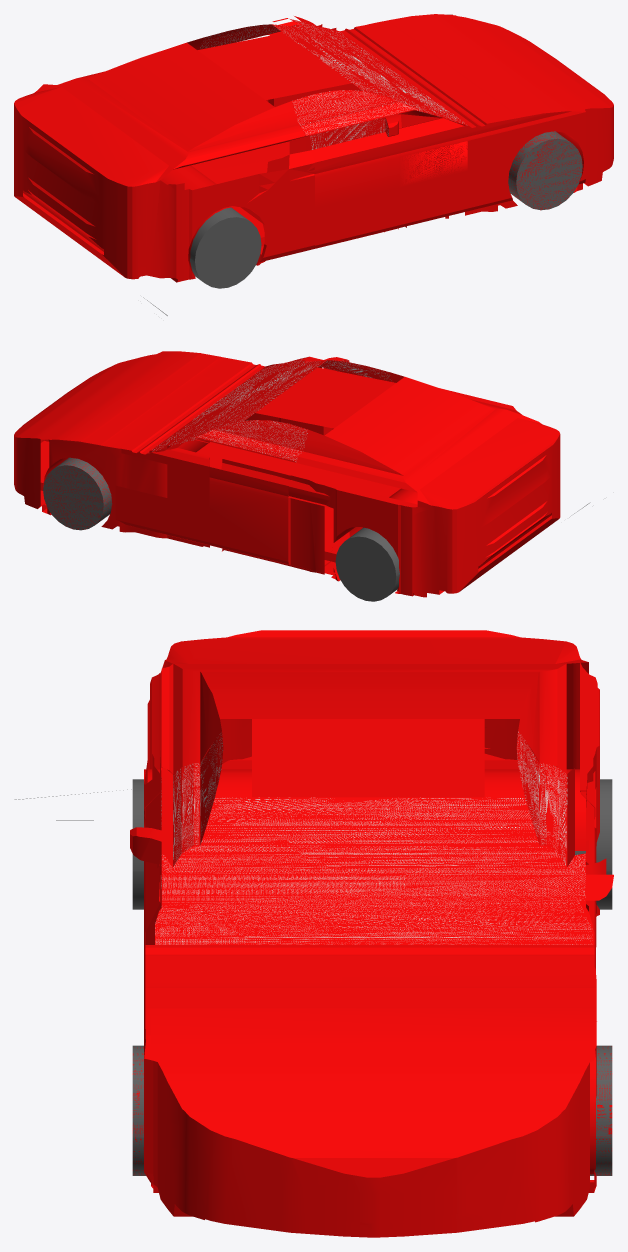
3 renders of one model, top to bottom at view 1: azimuth 30°, elevation 25°; view 2: azimuth 150°, elevation 25°; view 3: azimuth 270°, elevation 25°, orthographic. The views are drawn at different scales.
Parts seen in each view (by area): view 1: SketchUp.015, SketchUp.018, SketchUp.030, group_3.001, SketchUp.016; view 2: SketchUp.015, SketchUp.018, SketchUp.030, group_3.001; view 3: SketchUp.015, SketchUp.018, SketchUp.030, group_3.001.
Part boxes in pixels (x1,y1,x2,y2): SketchUp.015: (14,14,613,282); SketchUp.018: (199,19,468,135); SketchUp.030: (508,131,582,210); group_3.001: (190,207,261,288); SketchUp.016: (310,117,385,150); SketchUp.015: (14,351,560,597); SketchUp.018: (146,356,392,461); SketchUp.030: (43,457,112,530); group_3.001: (335,527,399,601); SketchUp.015: (130,630,613,1237); SketchUp.018: (155,731,592,944); SketchUp.030: (132,1045,612,1175); group_3.001: (132,779,612,909).
Size of the model in its own units: 0.7823 by 0.4532 by 0.2077.
